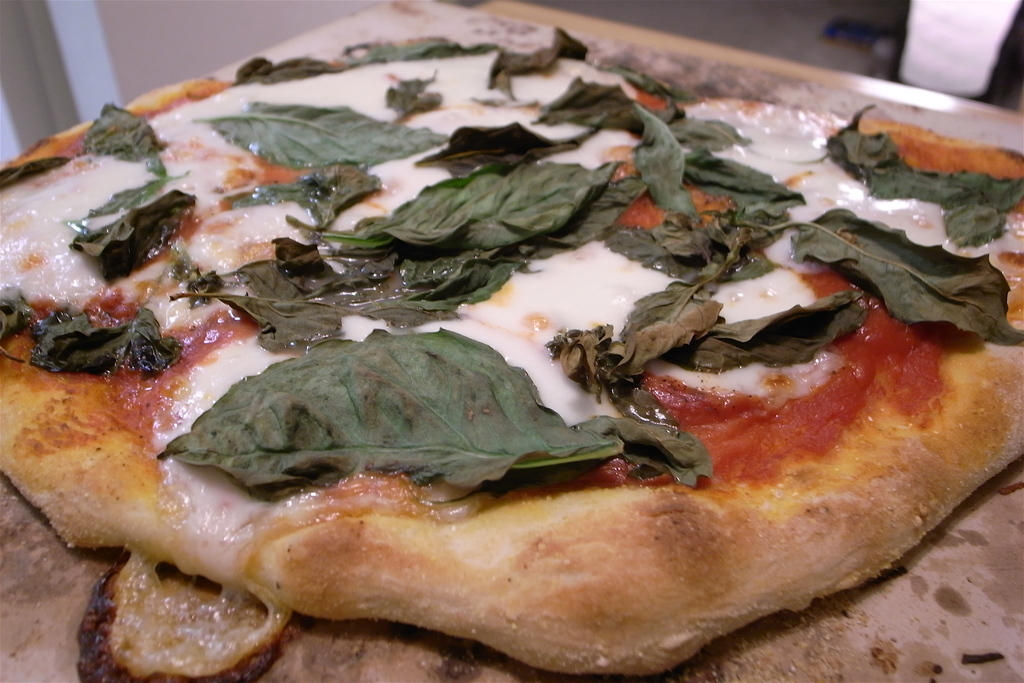Pizza: (0, 37, 1023, 681)
